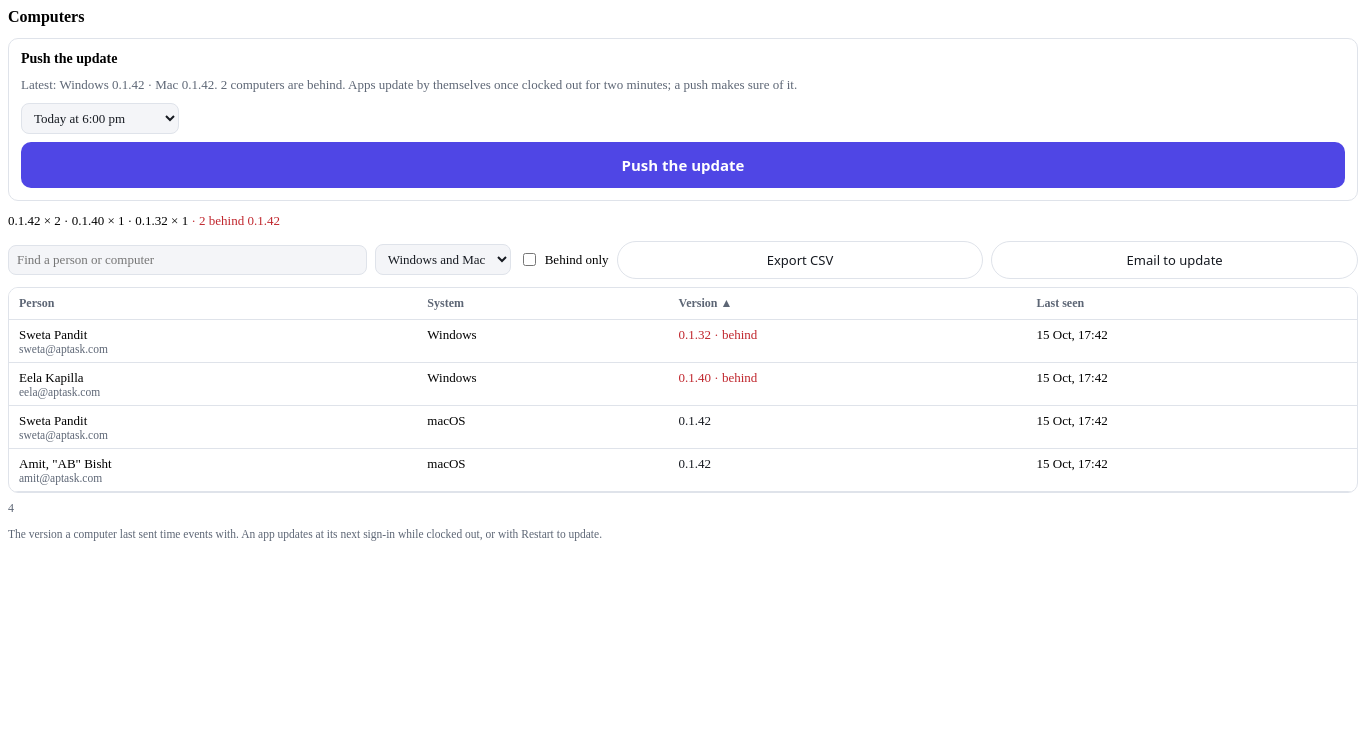
Computers → Export CSV and Email to update › emails the people behind, all ticked; unticking leaves someone out
Click the button "Email to update".
click(1175, 260)  # box [991,240,1358,278]
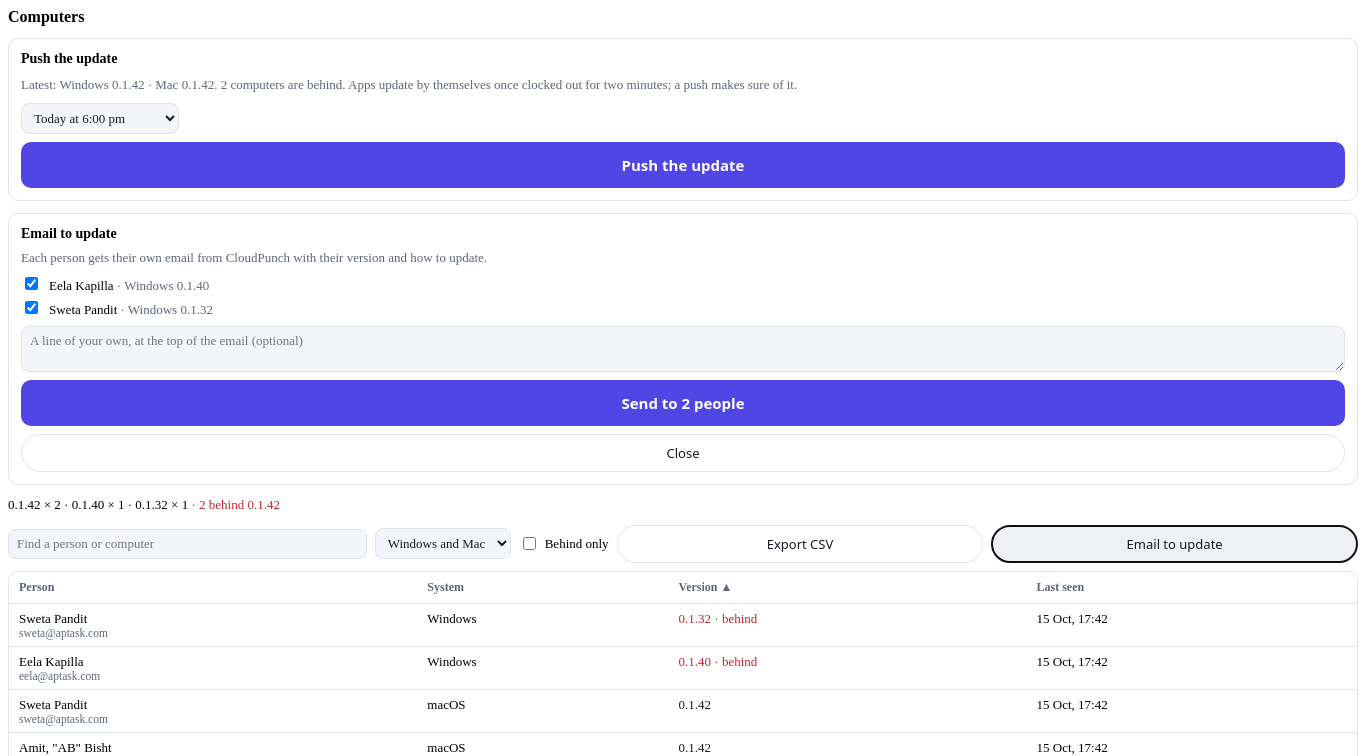
Expected: the list items read "Eela Kapilla · Windows 0.1.40", "Sweta Pandit · Windows 0.1.32", in this order, [25,276,209,292]; [25,300,213,316]
Click the checkbox named "remind-Eela Kapilla".
click(32, 283)  # box [25,276,38,290]
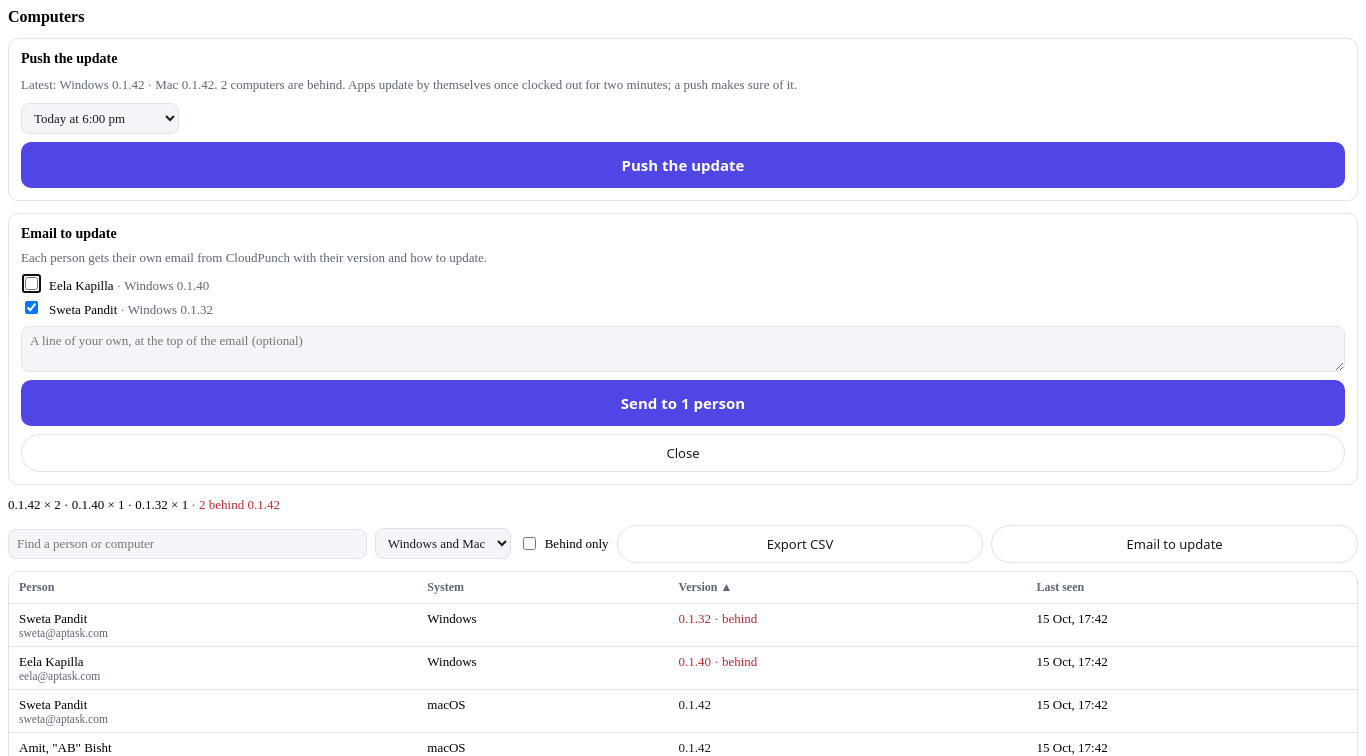
Type "Today, please." into the text box named "remind-message".
click(683, 348); type("Today, please.")  # box [21,326,1345,372]
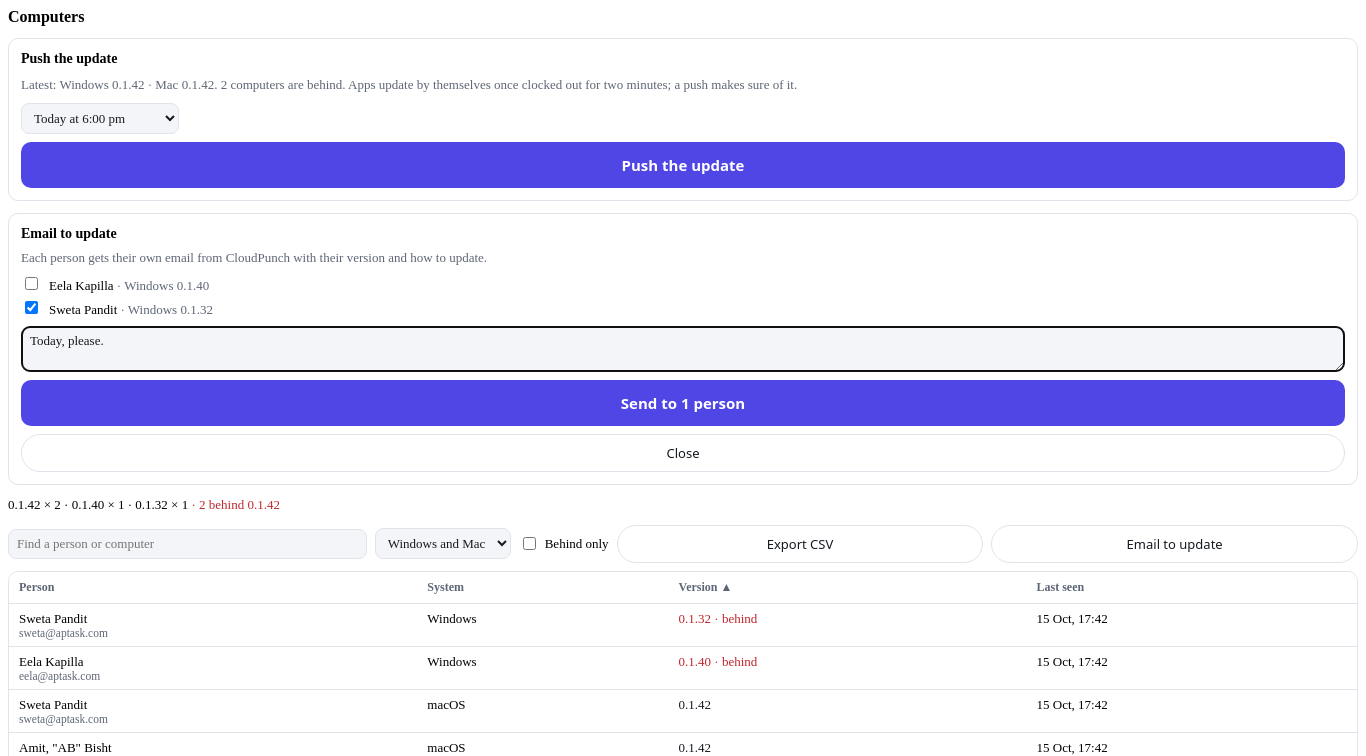
Click the button "Send to 1 person".
click(683, 402)  # box [21,380,1345,426]
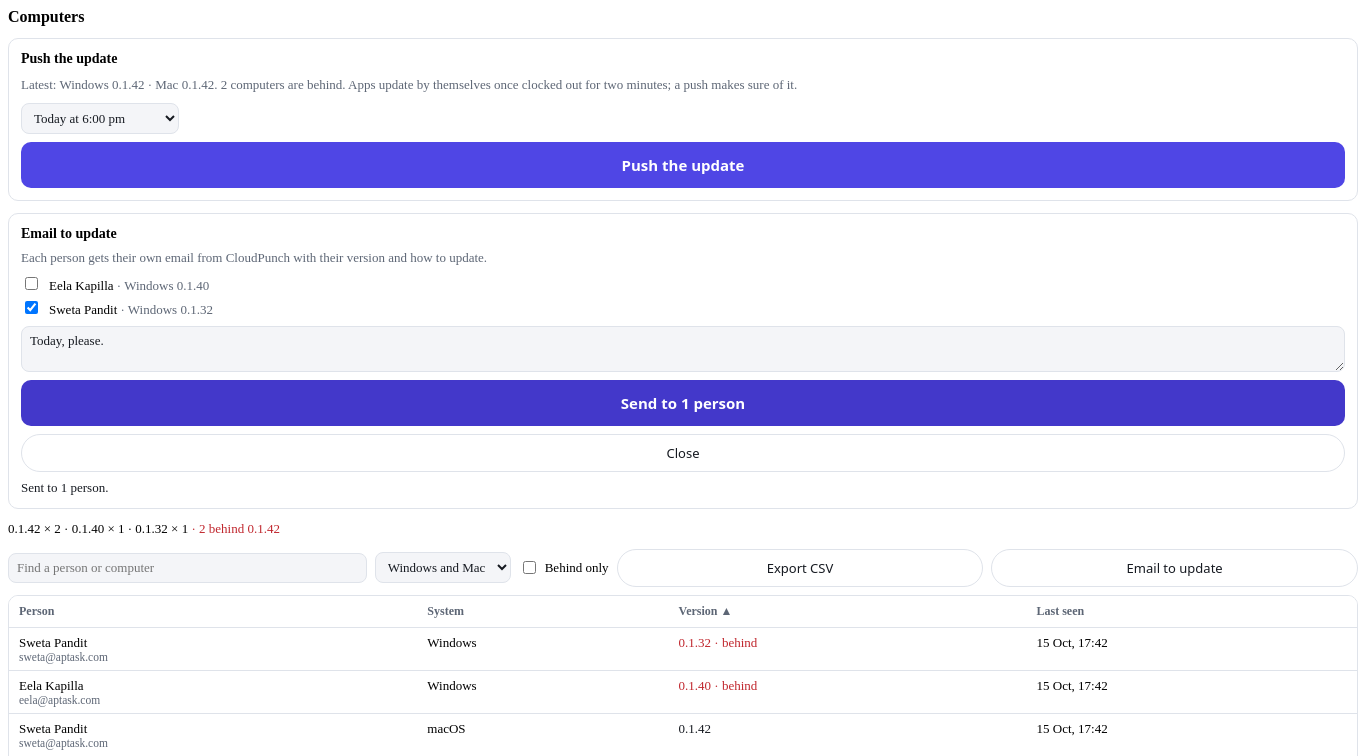
Expected: the message reads "Sent to 1 person.", [21,480,108,494]
